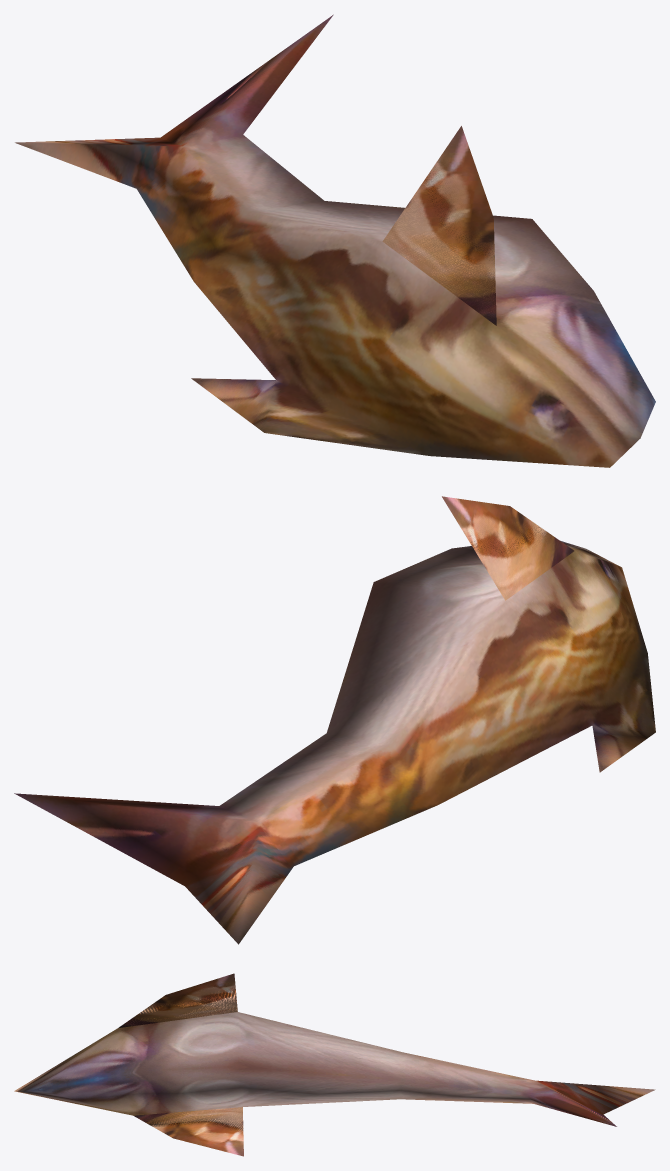
File: fishdeadorange.obj
3 views of the same model, one above another, from view 1: azimuth 30°, elevation 25°; view 2: azimuth 150°, elevation 25°; view 3: azimuth 270°, elevation 25° (orthographic). The views are drawn at different scales.
Parts seen in each view (by area): view 1: fishdeadorange; view 2: fishdeadorange; view 3: fishdeadorange.
Boxes of the visible parts, <box> form: fishdeadorange: <box>15,14,655,467</box>; fishdeadorange: <box>14,496,655,944</box>; fishdeadorange: <box>14,973,655,1156</box>.
Bounding box in the file's own units: 0.3101 × 0.1823 × 0.6819.
1 material, 1 textured.
